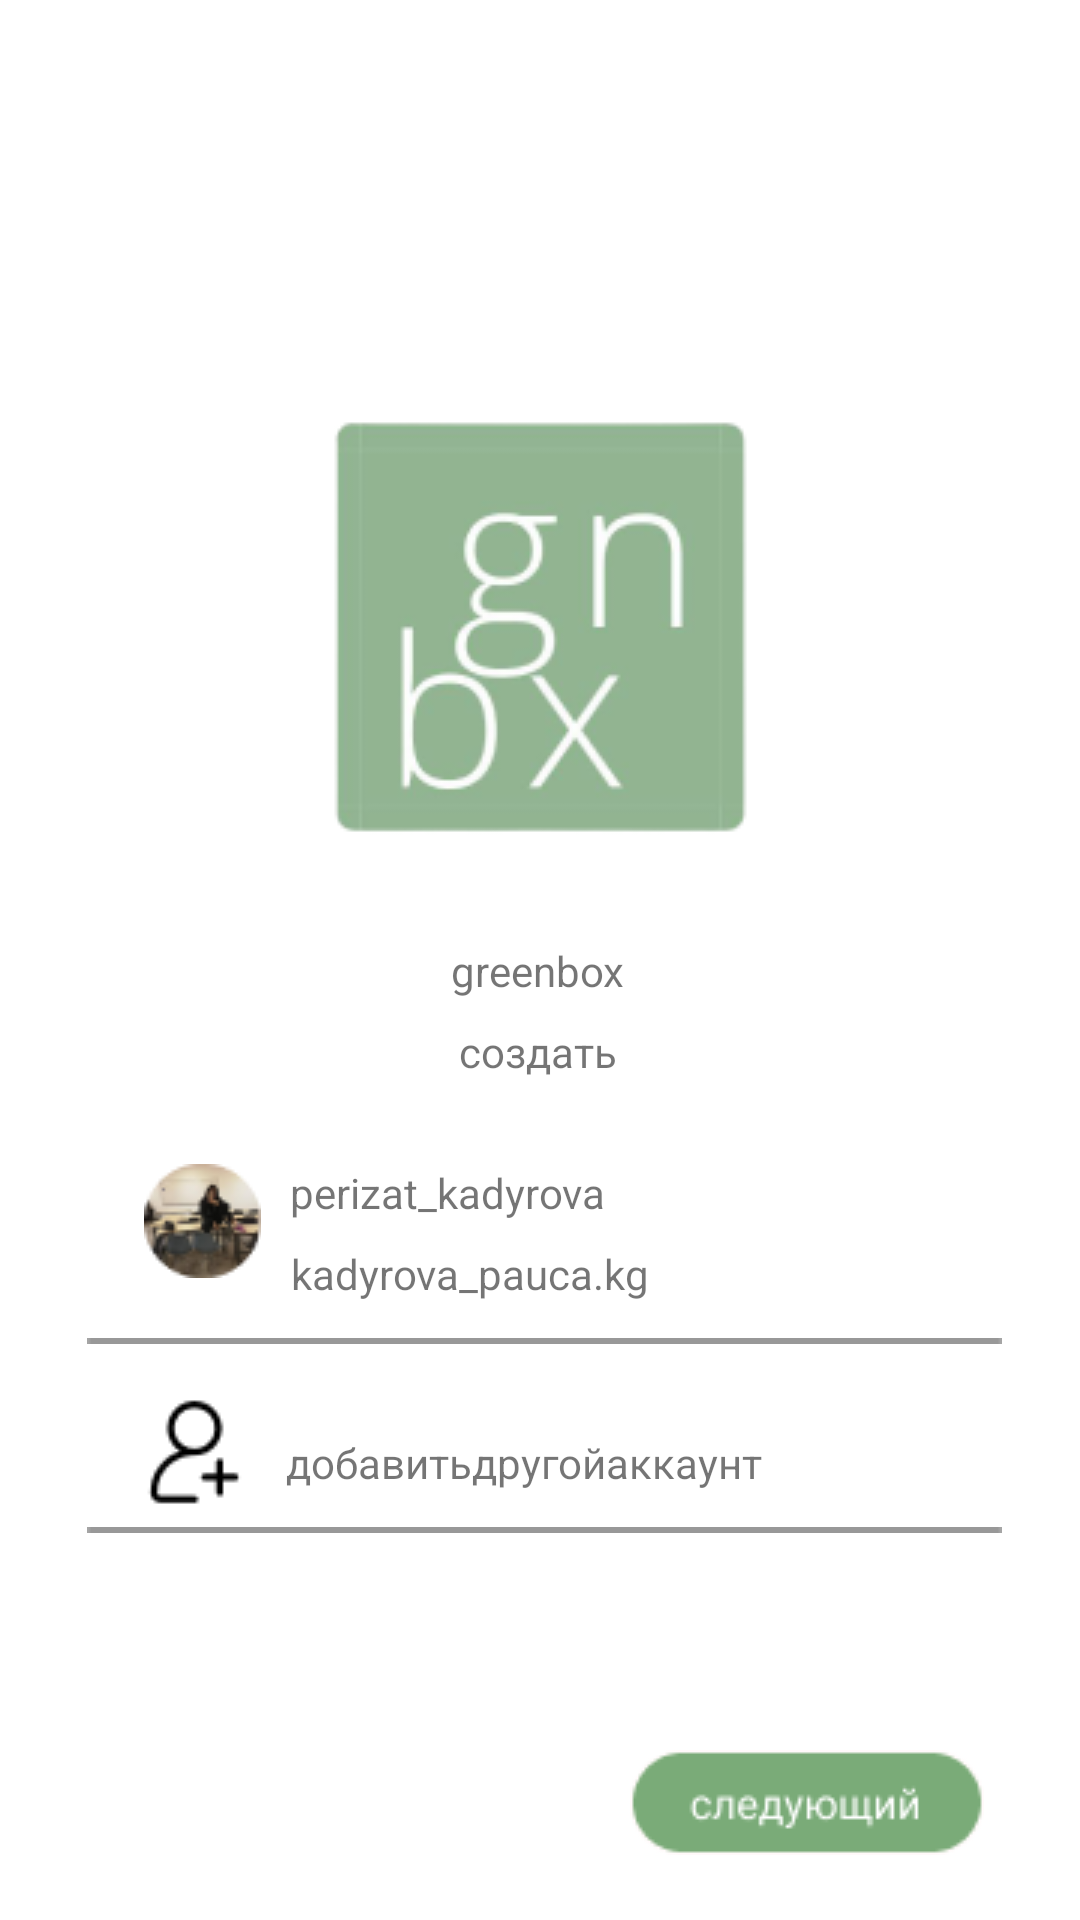

Icons on this 1080px×1920px Android screen, each with its box as detection(x1, y1, x2, y2):
add user: detection(149, 1400, 239, 1504)
